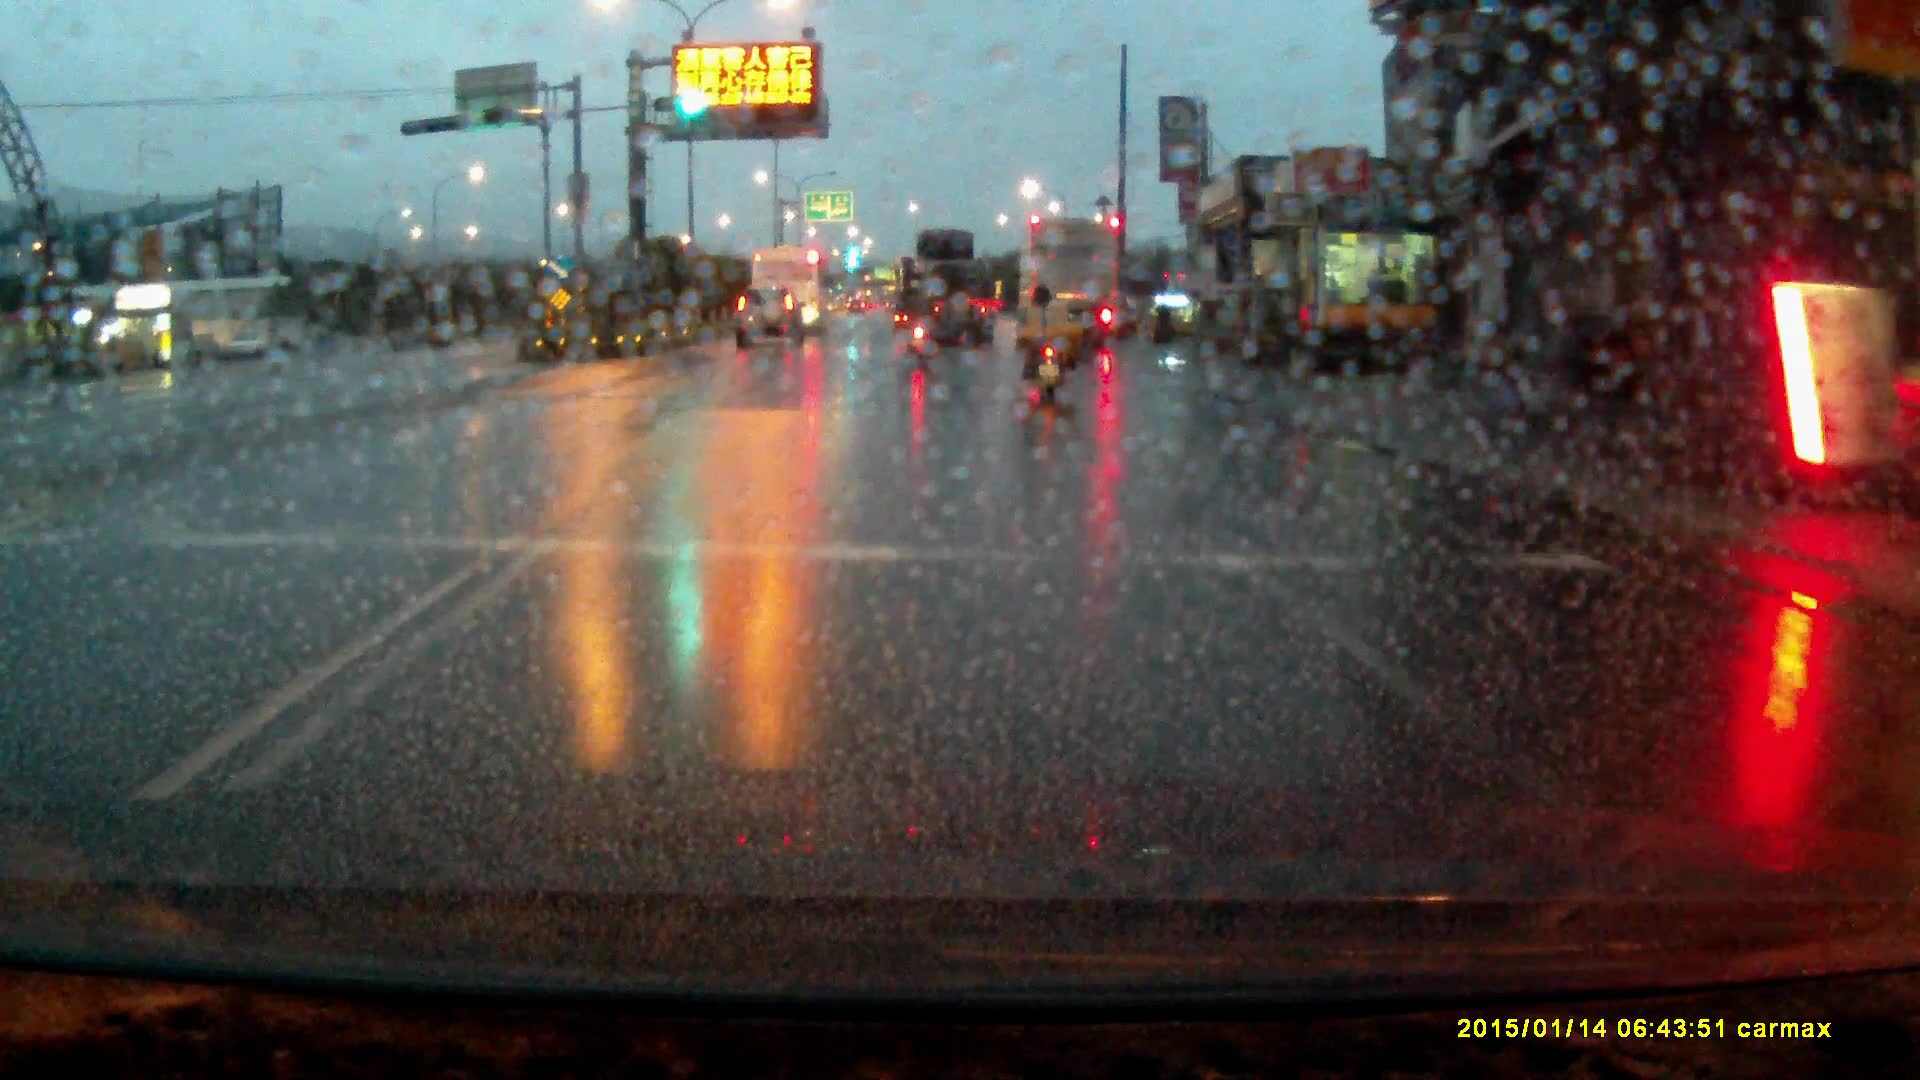rider: (1018, 287, 1081, 413), (902, 284, 939, 371)
vehicle: (1022, 219, 1121, 352), (900, 232, 996, 347), (755, 245, 829, 330), (732, 293, 808, 359)
